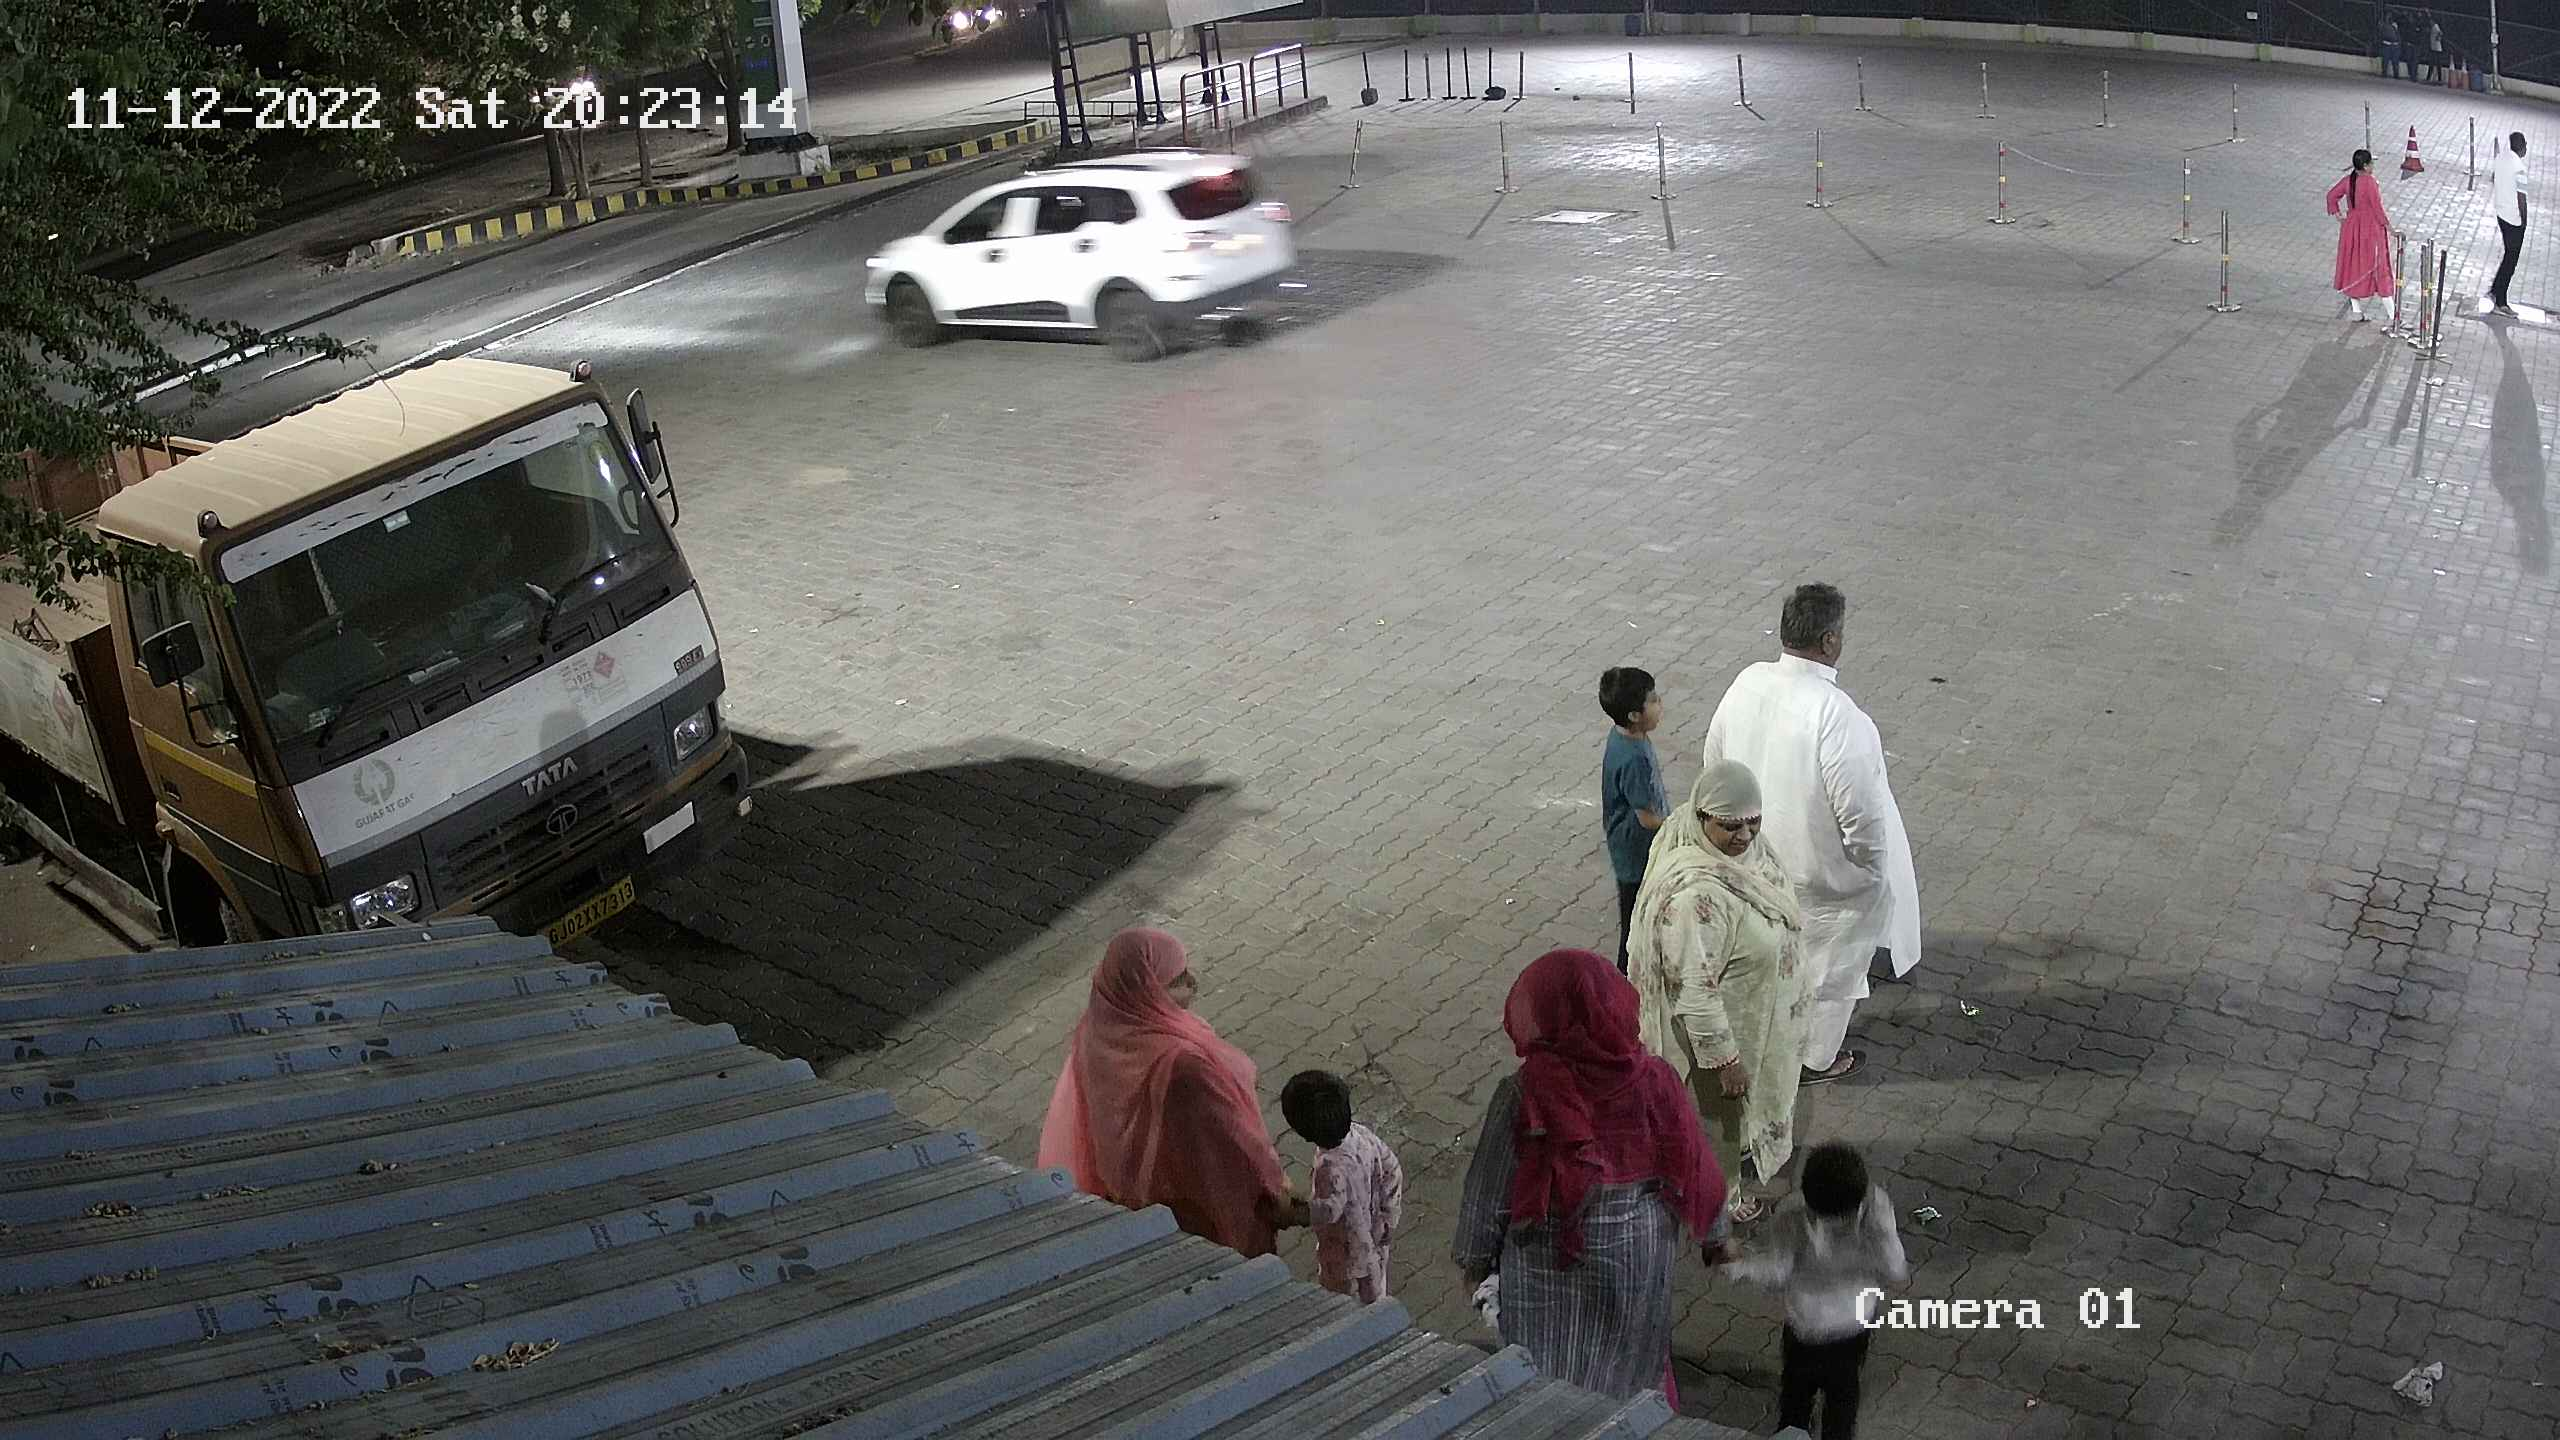Car: (872, 135, 1305, 362)
HMV: (0, 325, 765, 992)
